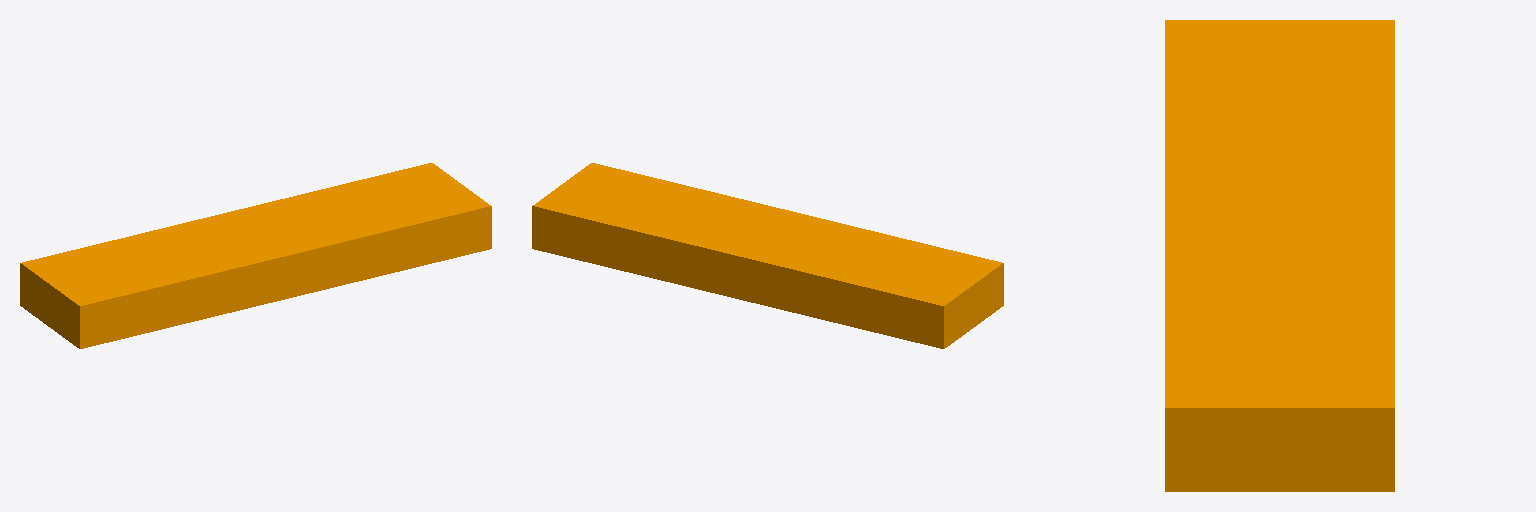
robot.urdf — stone:
<?xml version="1.0" ?>
<robot name="stone">
  <link name="stone__link">
    <inertial>
      <mass value="0.0125"/>
      <origin rpy="0 0 0" xyz="0 0 0"/>
      <inertia ixx="7.552083333333335e-07" ixy="0" ixz="0" iyy="1.0520833333333334e-05" iyz="0" izz="1.1067708333333336e-05"/>
    </inertial>
    <collision name="stone__collision">
      <origin rpy="1.57 0 0" xyz="0 0 0"/>
      <geometry>
        <box size="0.100 0.025 0.010"/>
      </geometry>
    </collision>
    <visual name="stone__visual">
      <origin rpy="0 0 0" xyz="0 0 0"/>
      <geometry>
        <box size="0.100 0.025 0.010"/>
      </geometry>
      <material name="Orange">
        <color rgba="1.0 0.65 0.0 1.0"/>
      </material>
    </visual> 
  </link>
</robot>

--- What the picture shows (computed from the rendered views, not written in the file) ---
The picture shows the robot from 3 angles, left to right: view 1: azimuth 30°, elevation 25°; view 2: azimuth 150°, elevation 25°; view 3: azimuth 270°, elevation 25°; orthographic projection.
Model stone with 1 links and 0 joints (none), rooted at stone__link, posed every joint at zero.
Visible links, largest first — view 1: stone__link; view 2: stone__link; view 3: stone__link.
Link boxes in pixels (x1=…): stone__link: x1=20, y1=163, x2=491, y2=348; stone__link: x1=532, y1=163, x2=1003, y2=348; stone__link: x1=1165, y1=20, x2=1394, y2=491.
Size in the robot's own frame: 0.1 by 0.025 by 0.01 metres.
Geometry: primitives only (box / cylinder / sphere), no mesh files.